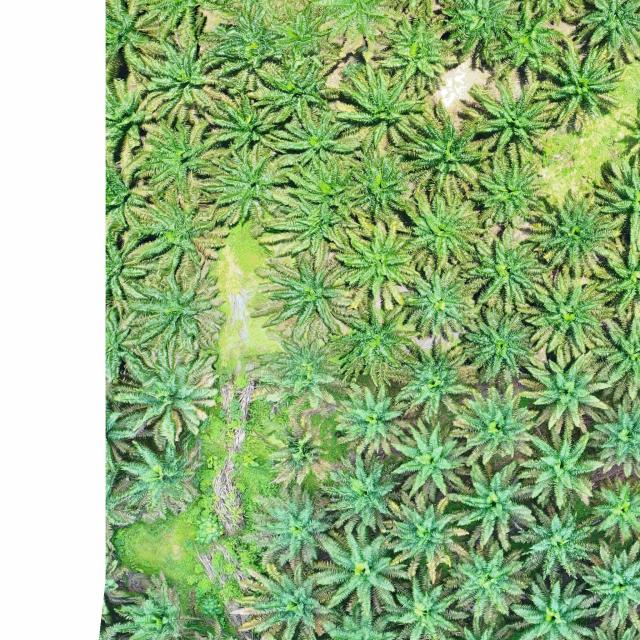Tree: (119, 262, 229, 371), (396, 98, 496, 203), (439, 456, 540, 555), (325, 59, 430, 153), (534, 31, 627, 136), (308, 524, 411, 615), (126, 188, 234, 274), (122, 36, 228, 119), (228, 563, 342, 640), (330, 294, 422, 388), (376, 489, 465, 586), (516, 271, 611, 358), (460, 75, 552, 164), (244, 482, 337, 570), (448, 380, 540, 468), (505, 498, 603, 580), (387, 188, 482, 272), (255, 250, 350, 332), (516, 350, 614, 429), (501, 568, 604, 640), (461, 148, 550, 230), (206, 140, 292, 224), (328, 214, 413, 298), (316, 452, 403, 534), (516, 424, 600, 508), (135, 117, 223, 197), (240, 52, 340, 122), (365, 16, 457, 92), (334, 375, 418, 458), (477, 2, 569, 77), (388, 415, 472, 497), (444, 540, 530, 620), (453, 230, 540, 309), (254, 333, 345, 408), (393, 338, 479, 417), (526, 189, 602, 276), (456, 301, 538, 379), (396, 262, 476, 341), (270, 105, 364, 172), (378, 574, 472, 640), (256, 204, 365, 259), (210, 3, 290, 77), (583, 534, 640, 632), (583, 391, 640, 480), (205, 87, 282, 152), (589, 306, 640, 403), (583, 234, 640, 320), (283, 157, 363, 217), (570, 1, 640, 68), (351, 148, 423, 213), (589, 476, 640, 540)
